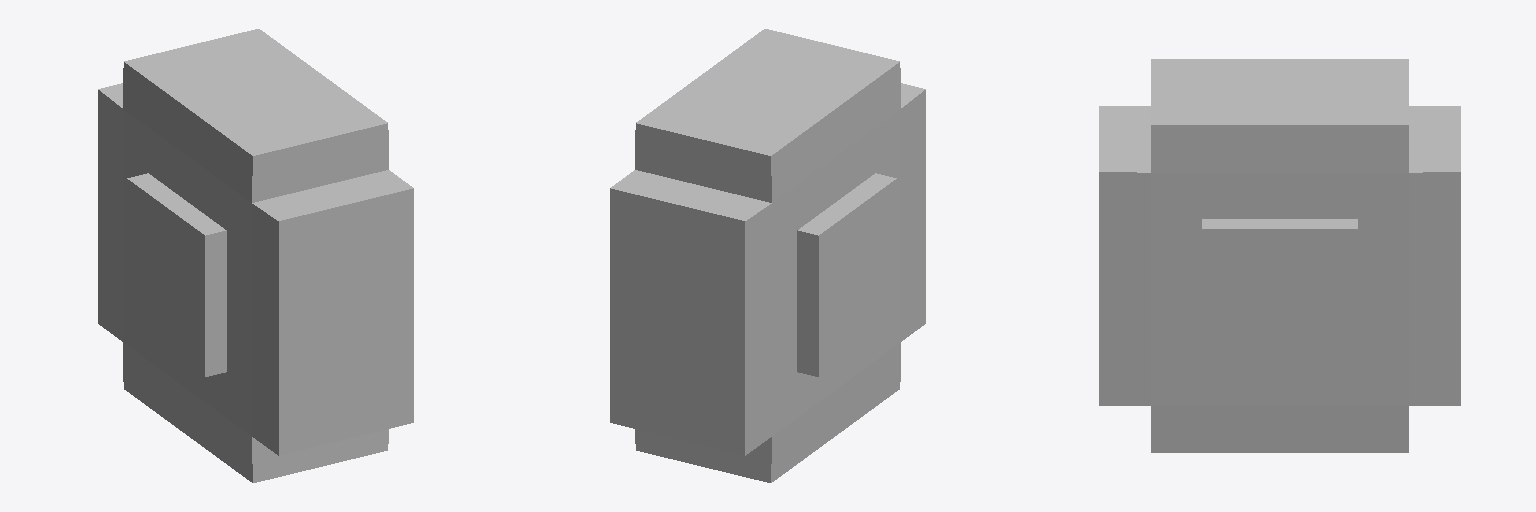
File: wheelsmall.obj
3 renders of one model, left to right at view 1: azimuth 30°, elevation 25°; view 2: azimuth 150°, elevation 25°; view 3: azimuth 270°, elevation 25°, orthographic.
Parts seen in each view (by area): view 1: #translucent_mudAcc_tire, #translucent_mudAcc_rim; view 2: #translucent_mudAcc_tire, #translucent_mudAcc_rim; view 3: #translucent_mudAcc_tire, #translucent_mudAcc_rim.
Boxes of the visible parts, x1,y1,x2,y2 form: #translucent_mudAcc_tire: [98, 29, 413, 482]; #translucent_mudAcc_rim: [127, 173, 226, 376]; #translucent_mudAcc_tire: [610, 29, 925, 482]; #translucent_mudAcc_rim: [797, 173, 896, 376]; #translucent_mudAcc_tire: [1099, 59, 1460, 452]; #translucent_mudAcc_rim: [1202, 219, 1357, 370].
Bounding box in the file's own units: 0.2536 × 0.4411 × 0.4411.